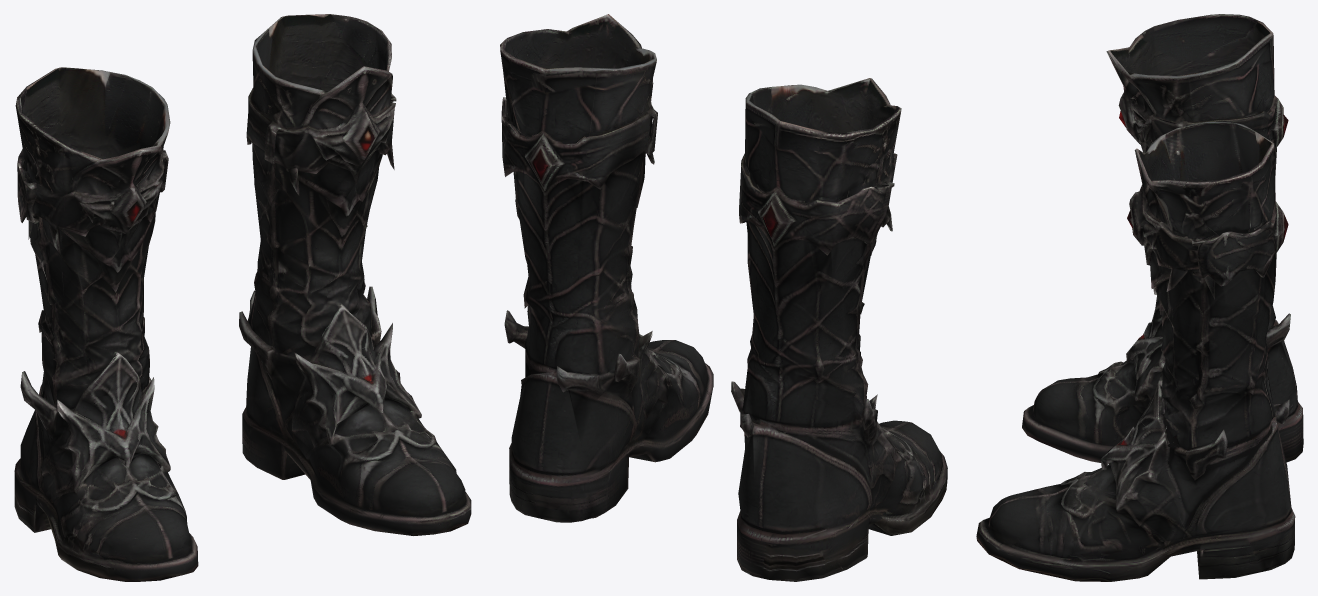
File: Meshy_AI_Midnight_Lattice_Boot_0607215433_texture.glb
The picture shows the model from 3 angles, left to right: view 1: azimuth 30°, elevation 25°; view 2: azimuth 150°, elevation 25°; view 3: azimuth 270°, elevation 25°; orthographic projection. The views are drawn at different scales.
Parts seen in each view (by area): view 1: Mesh_0; view 2: Mesh_0; view 3: Mesh_0.
Part boxes in pixels (x1=…): Mesh_0: x1=14, y1=14, x2=471, y2=581; Mesh_0: x1=500, y1=14, x2=947, y2=581; Mesh_0: x1=976, y1=14, x2=1303, y2=581.
Bounding box in the file's own units: 1.7 × 1.91 × 1.36.
Materials: 1 (1 with a texture image).
